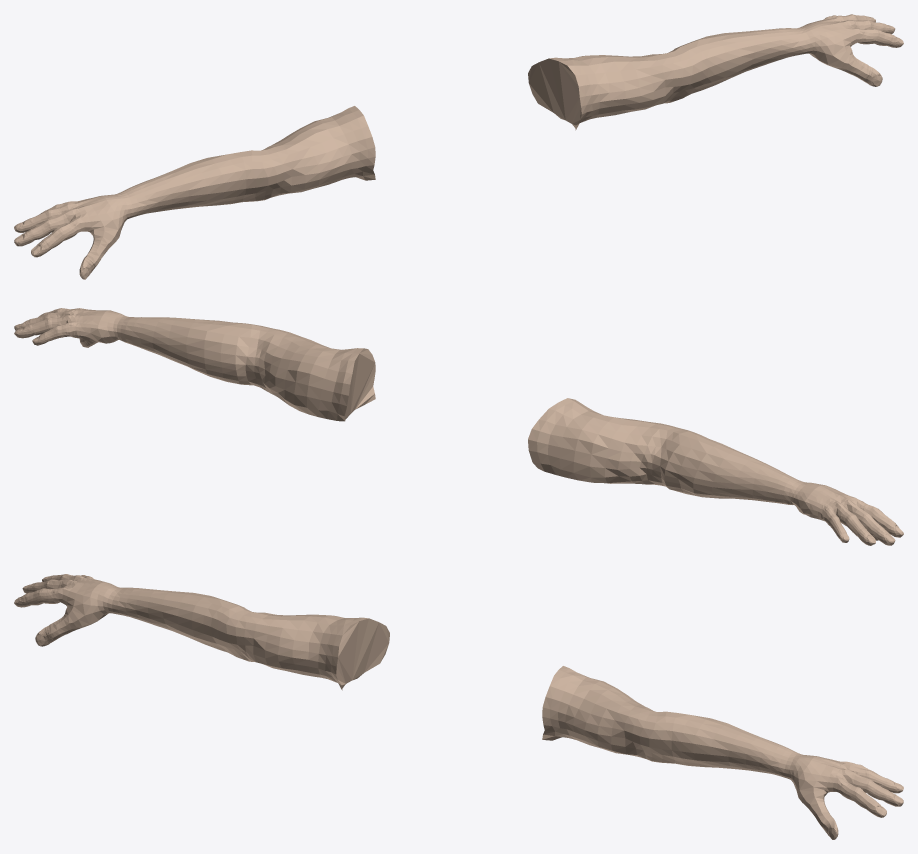
The model's file is Arms.fbx.
3 views of the same model, one above another, from view 1: azimuth 30°, elevation 25°; view 2: azimuth 150°, elevation 25°; view 3: azimuth 330°, elevation 25° (orthographic).
Parts seen in each view (by area): view 1: Hands Mesh; view 2: Hands Mesh; view 3: Hands Mesh.
Boxes of the visible parts, x1,y1,x2,y2 form: Hands Mesh: (14, 14, 903, 279); Hands Mesh: (14, 308, 903, 545); Hands Mesh: (14, 574, 903, 839).
Bounding box in the file's own units: 180 × 15.98 × 15.74.
